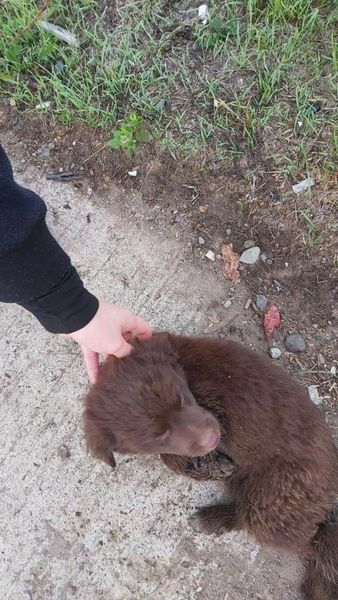dog: (75, 318, 335, 563)
